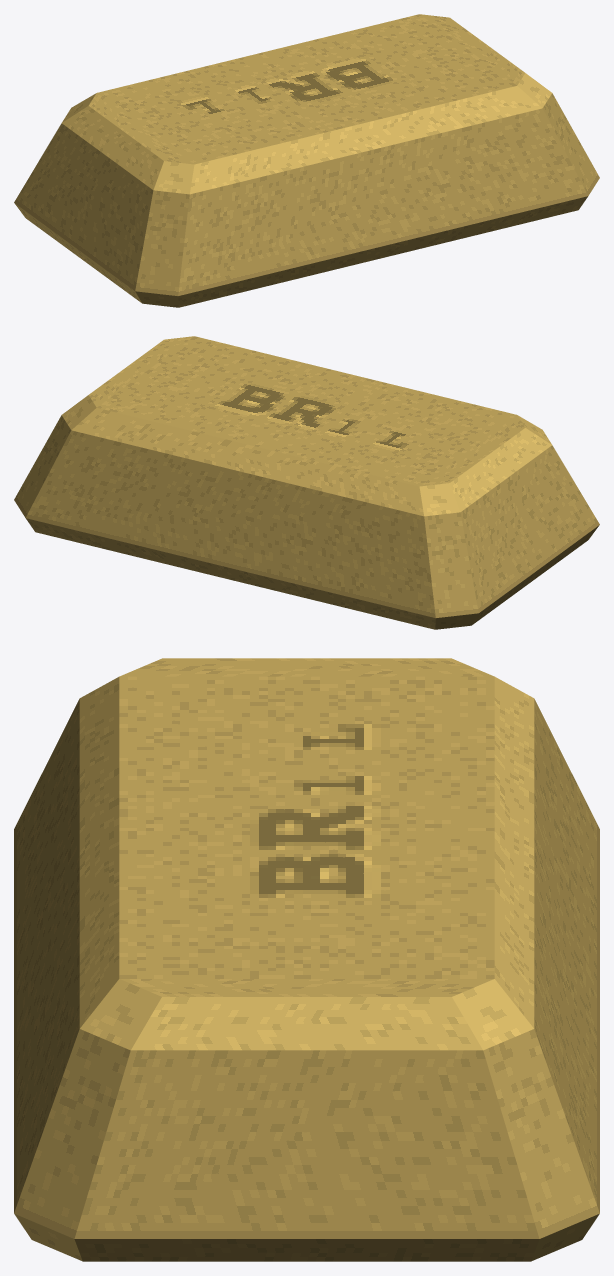
File: 1l_brass.glb
3 renders of one model, top to bottom at view 1: azimuth 30°, elevation 25°; view 2: azimuth 150°, elevation 25°; view 3: azimuth 270°, elevation 25°, orthographic. The views are drawn at different scales.
Parts seen in each view (by area): view 1: block_one-piece cast ingot; view 2: block_one-piece cast ingot; view 3: block_one-piece cast ingot.
Part boxes in pixels (x1,y1,x2,y2): block_one-piece cast ingot: (14,14,599,307); block_one-piece cast ingot: (14,336,599,629); block_one-piece cast ingot: (14,658,599,1261).
Bounding box in the file's own units: 0.181 × 0.0436 × 0.103.
1 material, 1 textured.
